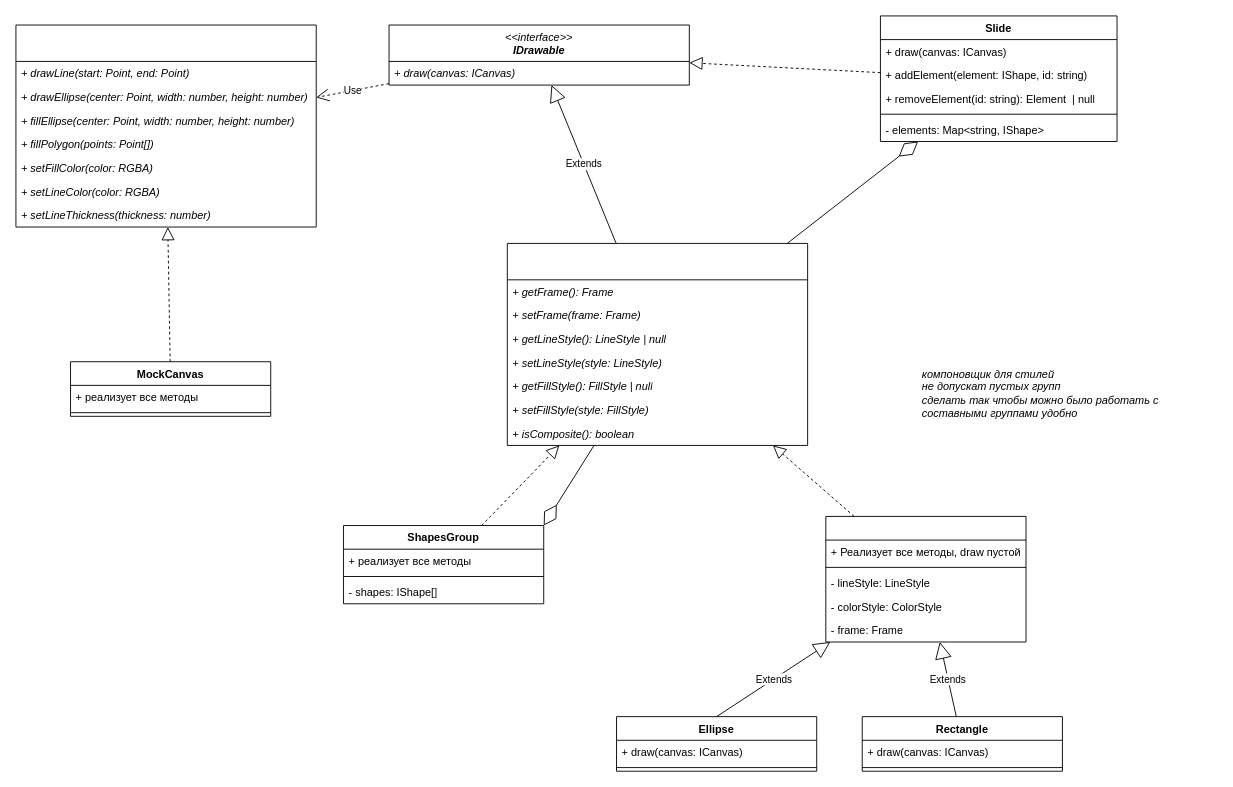
Image size: 1233x787. Some labels were removed from this diagram. The shapes that lost their labels are listed below. From the top down, each one's box as (x1, y1, x2, y2) in pixels, then its label:
(15, 24, 316, 227): <<interface>> ICanvas
(506, 243, 808, 445): <<interface>> IShape
(825, 516, 1026, 642): Shape
